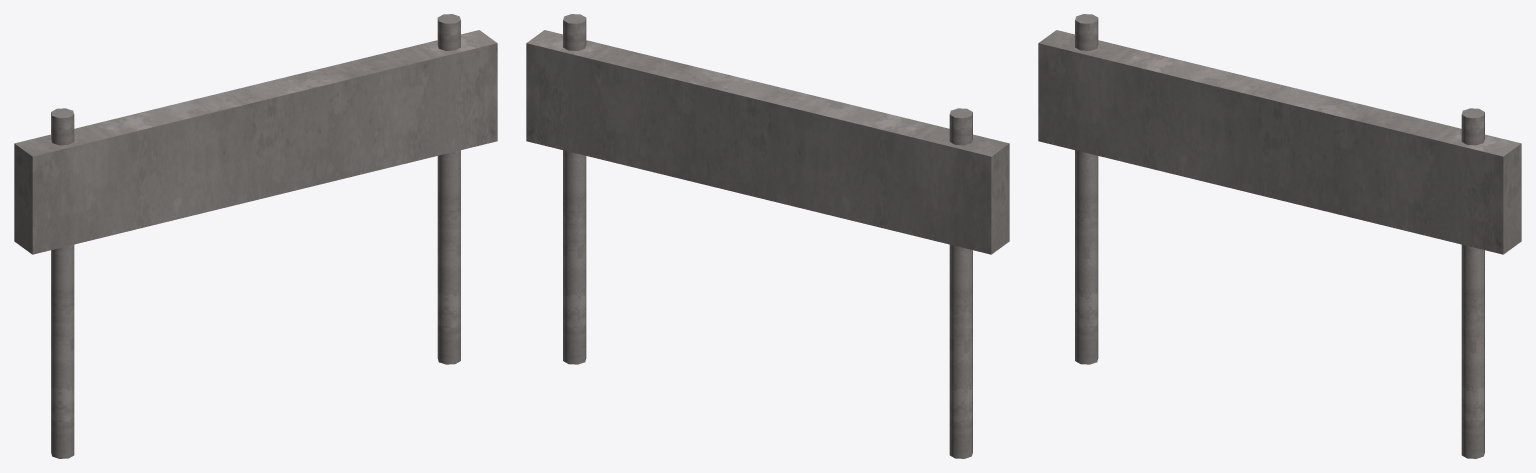
File: Sign.fbx
3 views of the same model, side by side, from view 1: azimuth 30°, elevation 25°; view 2: azimuth 150°, elevation 25°; view 3: azimuth 330°, elevation 25° (orthographic).
Visible parts, largest first — view 1: Cube.008; view 2: Cube.008; view 3: Cube.008.
Boxes of the visible parts, left/top/right/bottom form: Cube.008: left=14, top=14, right=497, bottom=458; Cube.008: left=526, top=14, right=1009, bottom=458; Cube.008: left=1038, top=14, right=1521, bottom=458.
Size of the model in its own units: 197 by 138 by 13.27.
